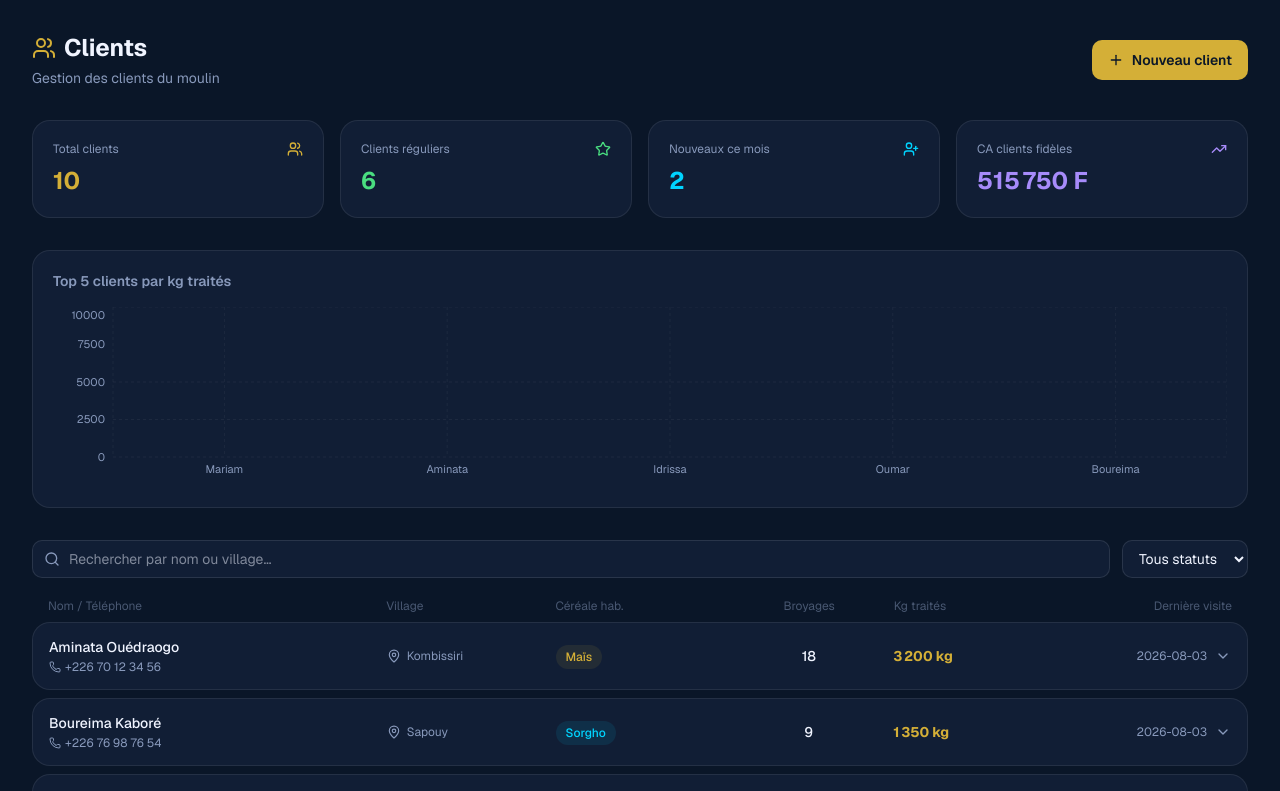
Test case: ClientsPage — recherche › 29. la recherche par nom réduit la liste
The image size is (1280, 791).
Type "Mariam" into the field with placeholder "Rechercher par nom ou village…" at point(571, 559), box [32,540,1110,578]
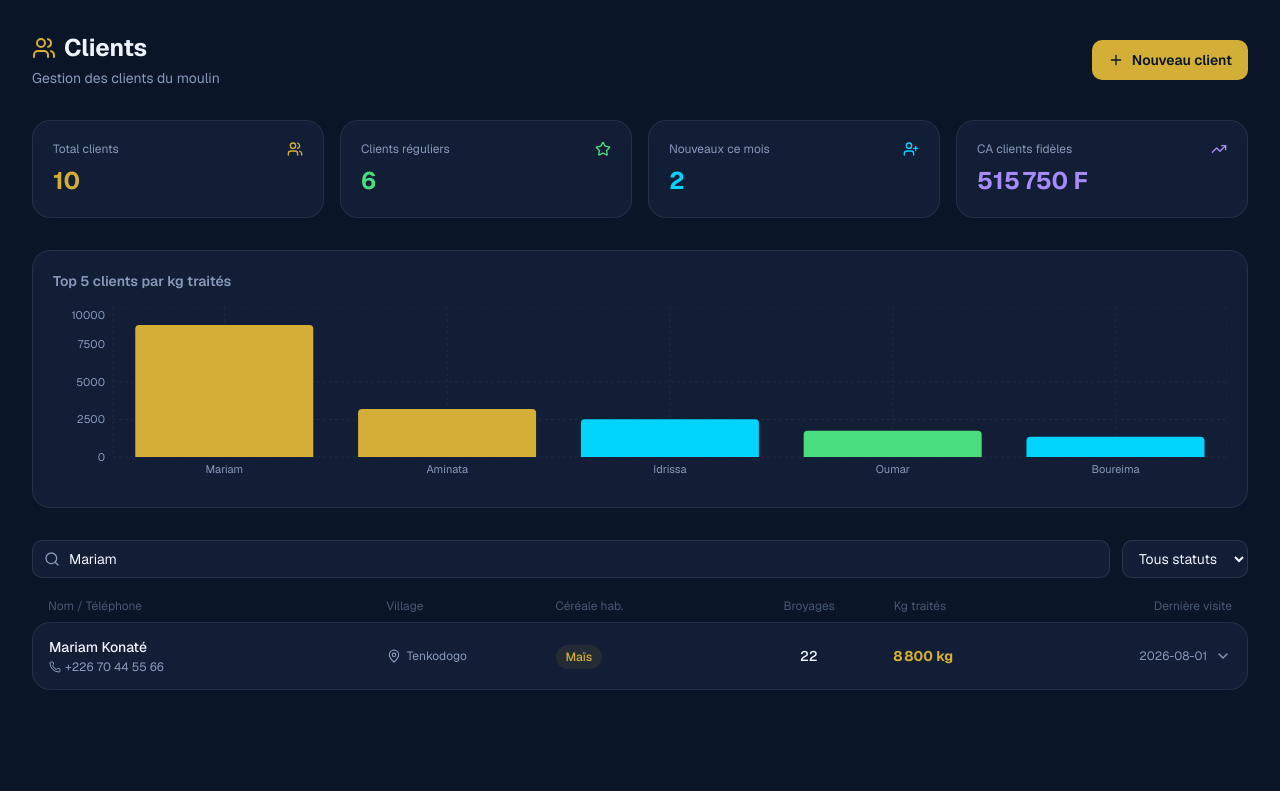
Expected: the text "Mariam Konaté" is shown, [49,638,147,656]
Now the text "Aminata Ouédraogo" is gone
